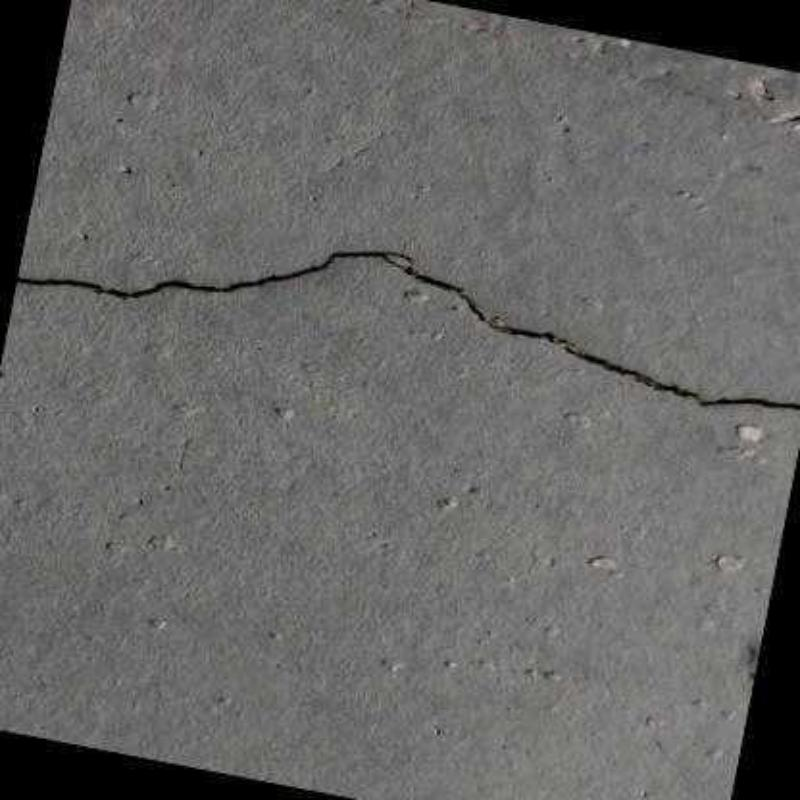crack: (16, 250, 800, 408)
